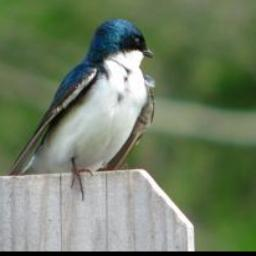Swallow: (6, 15, 158, 202)
